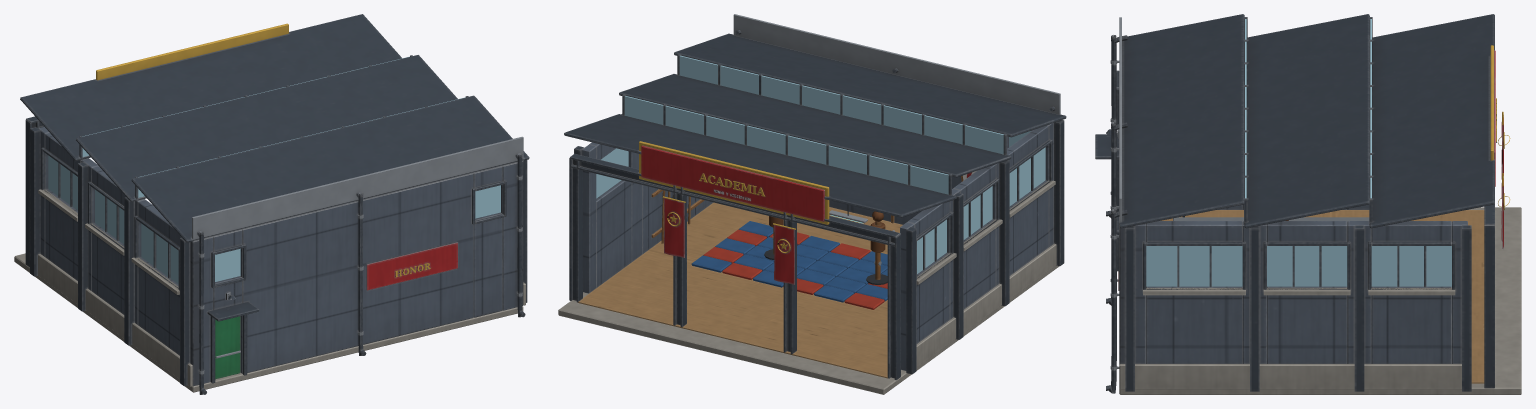
File: academia_entrenamiento.fbx
3 views of the same model, side by side, from view 1: azimuth 30°, elevation 25°; view 2: azimuth 150°, elevation 25°; view 3: azimuth 270°, elevation 25° (orthographic). The views are drawn at different scales.
Parts seen in each view (by area): view 1: academia_entrenamiento, academia_entrenamiento_cristal; view 2: academia_entrenamiento, academia_entrenamiento_cristal; view 3: academia_entrenamiento, academia_entrenamiento_cristal.
Part boxes in pixels (x1=…): academia_entrenamiento: x1=14, y1=14, x2=529, y2=394; academia_entrenamiento_cristal: x1=48, y1=56, x2=500, y2=283; academia_entrenamiento: x1=558, y1=14, x2=1066, y2=394; academia_entrenamiento_cristal: x1=596, y1=55, x2=1045, y2=273; academia_entrenamiento: x1=1095, y1=14, x2=1521, y2=394; academia_entrenamiento_cristal: x1=1146, y1=19, x2=1451, y2=286.
Bounding box in the file's own units: 16.6 × 8.57 × 15.9.
5 materials, 1 textured.
